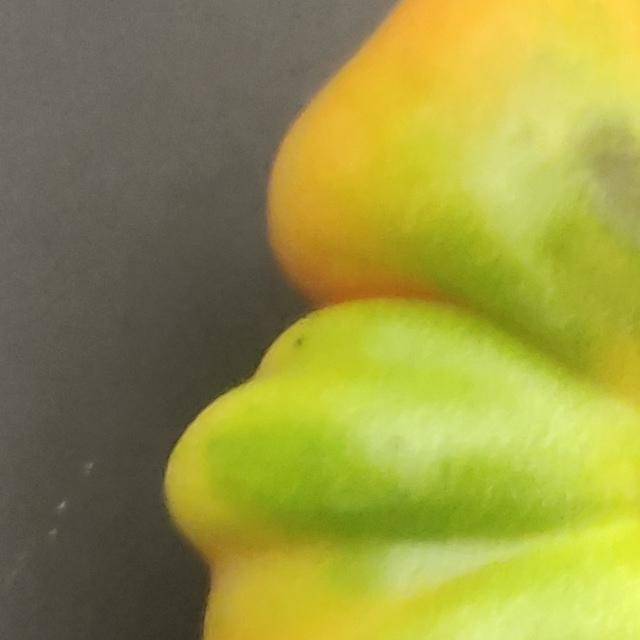tomato: (28, 0, 640, 640)
